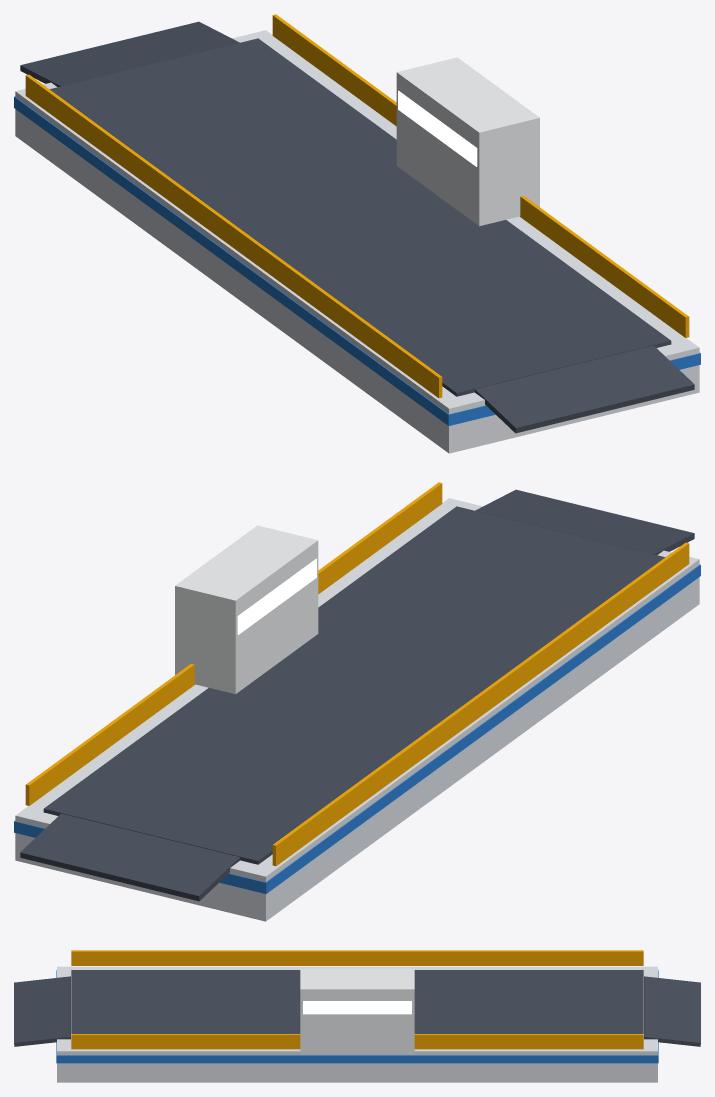
File: river_ferry.glb
The picture shows the model from 3 angles, top to bottom: view 1: azimuth 30°, elevation 25°; view 2: azimuth 150°, elevation 25°; view 3: azimuth 270°, elevation 25°; orthographic projection. The views are drawn at different scales.
Visible parts, largest first — view 1: ferry; view 2: ferry; view 3: ferry.
Part boxes in pixels (<box>): ferry: <box>14,14,700,453</box>; ferry: <box>14,482,700,921</box>; ferry: <box>14,950,700,1082</box>.
Bounding box in the file's own units: 15 × 7.6 × 48.01.
